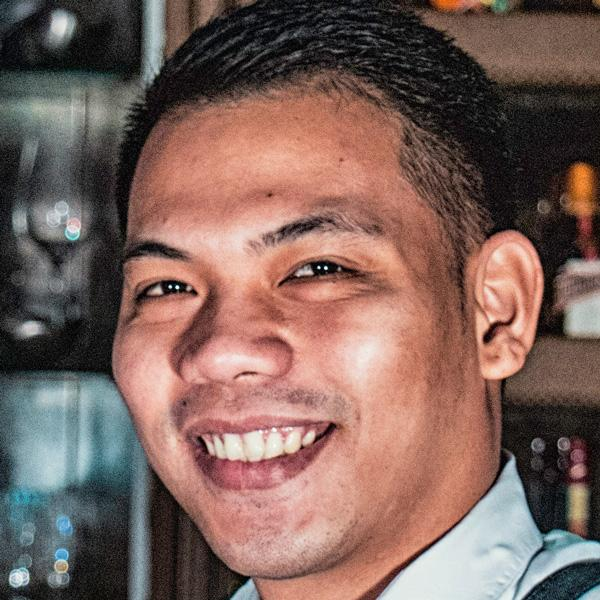Eyes: (275, 246, 375, 299), (127, 266, 206, 314)
